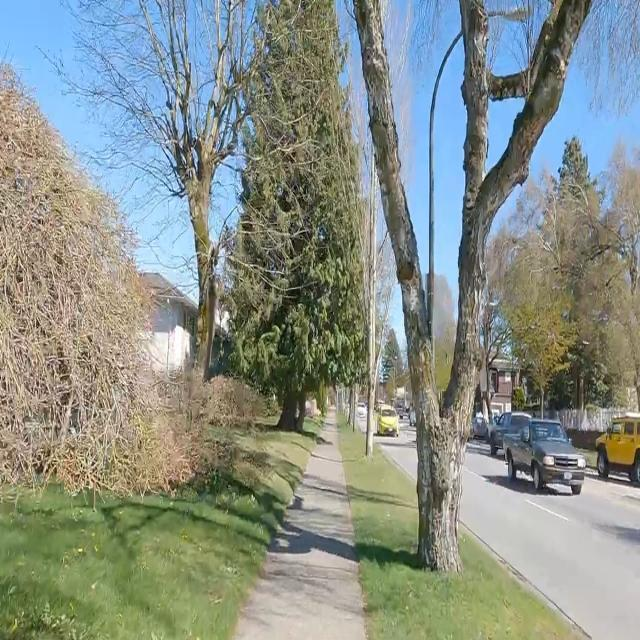Automobile: (505, 418, 585, 494), (597, 413, 639, 485), (490, 412, 530, 455), (377, 404, 398, 436), (473, 412, 486, 440)
Road: (460, 445, 639, 639), (461, 445, 639, 639), (376, 438, 416, 478)
Sidewalk: (234, 411, 365, 639)
